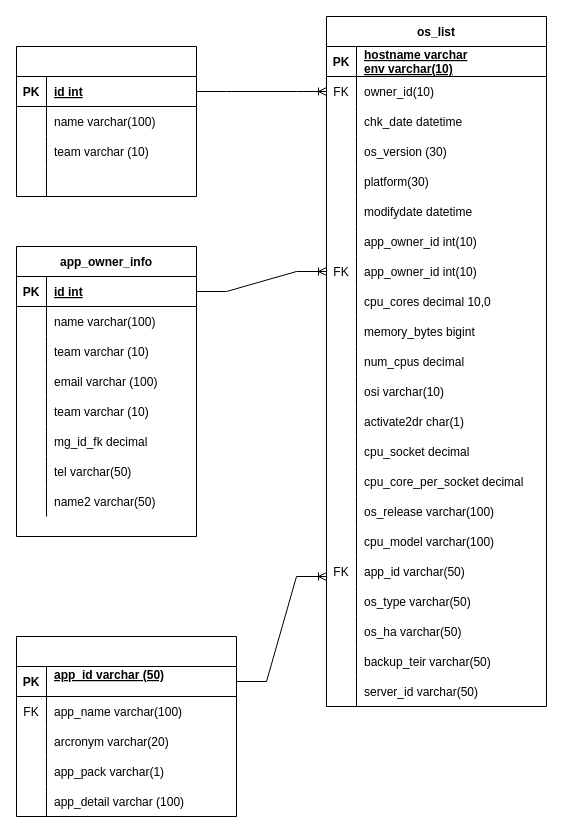
Image size: 563x833. Some labels were removed from this diagram. The box of each missing label's shape, as (x1, y1, x2, y2) in pixels:
app_list: (16, 636, 236, 816)
owner_info: (16, 46, 196, 196)
